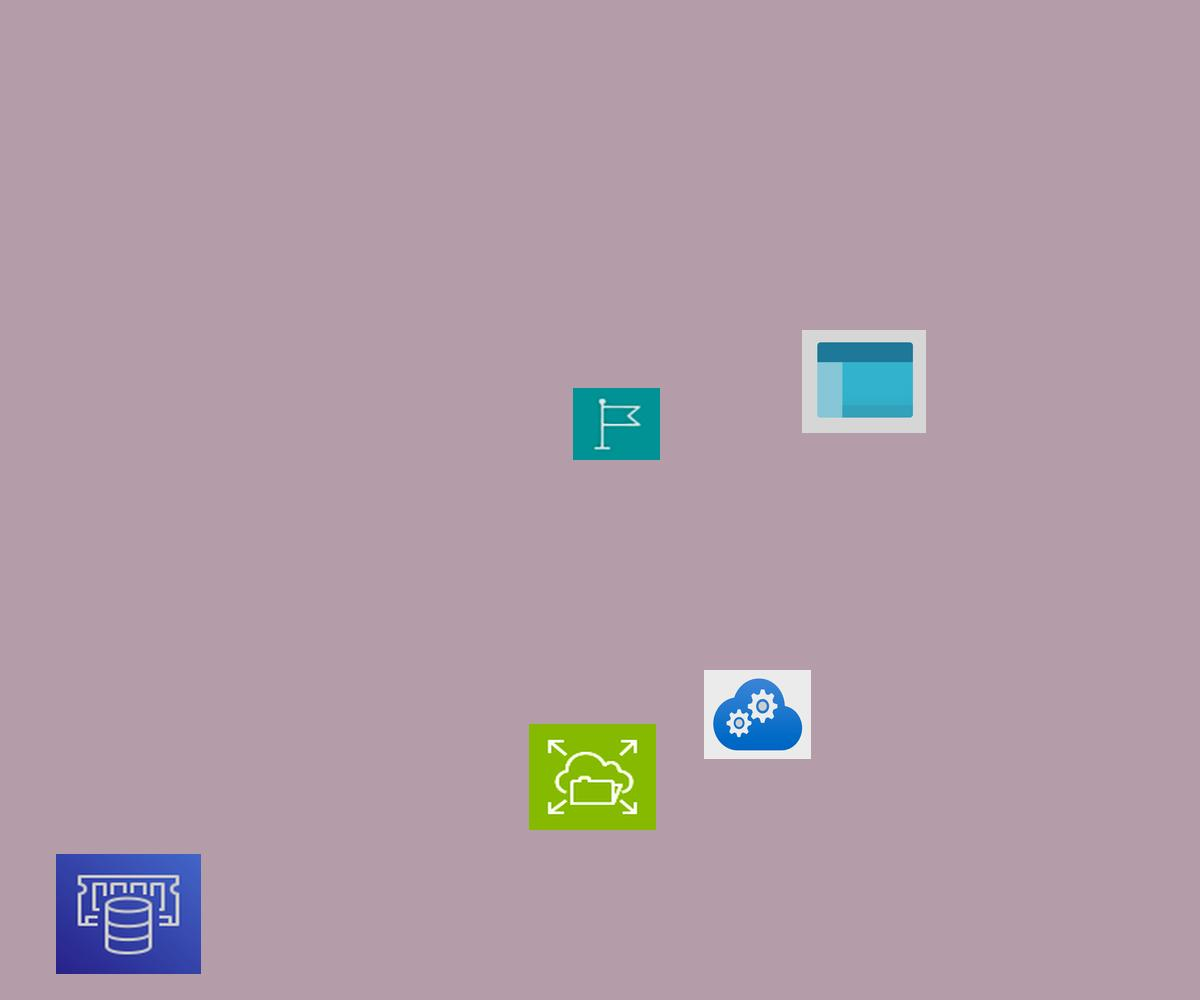AWS-EFS: (529, 724, 656, 830)
AWS-ElastiCache: (56, 854, 201, 974)
AWS-Region: (573, 388, 660, 460)
Azure_cloud_services: (704, 670, 811, 759)
Azure_management-portal: (802, 330, 926, 433)
